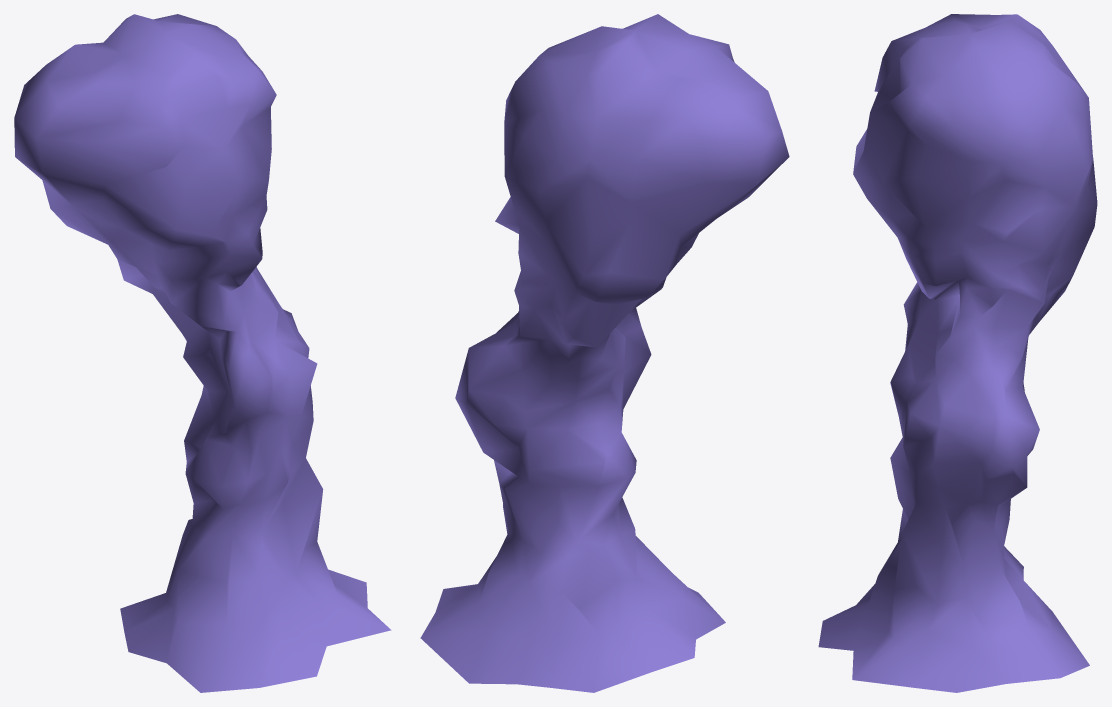
Rendered from Pillar.fbx.
3 views of the same model, side by side, from view 1: azimuth 30°, elevation 25°; view 2: azimuth 150°, elevation 25°; view 3: azimuth 270°, elevation 25° (orthographic). The views are drawn at different scales.
Visible parts, largest first — view 1: Cube_017; view 2: Cube_017; view 3: Cube_017.
Part boxes in pixels (x1,y1,x2,y2): Cube_017: (14, 14, 391, 692); Cube_017: (420, 14, 789, 692); Cube_017: (818, 14, 1097, 692).
Bounding box in the file's own units: 8.85 × 15.88 × 6.72.
